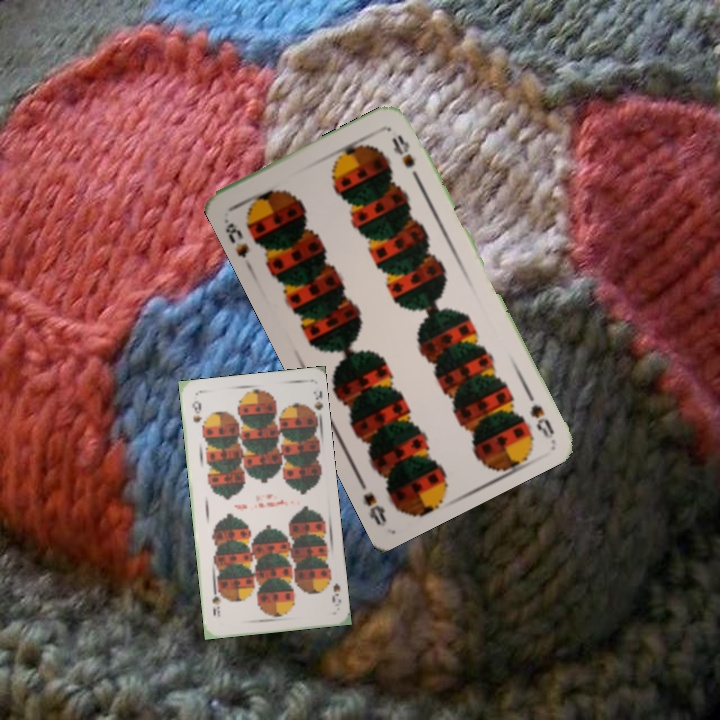S8: (521, 384, 557, 441), (220, 214, 252, 261)
S9: (323, 570, 343, 605), (188, 396, 204, 425)
